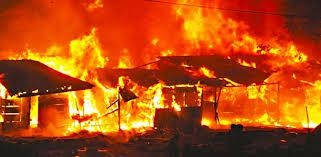fire: (0, 0, 305, 138)
